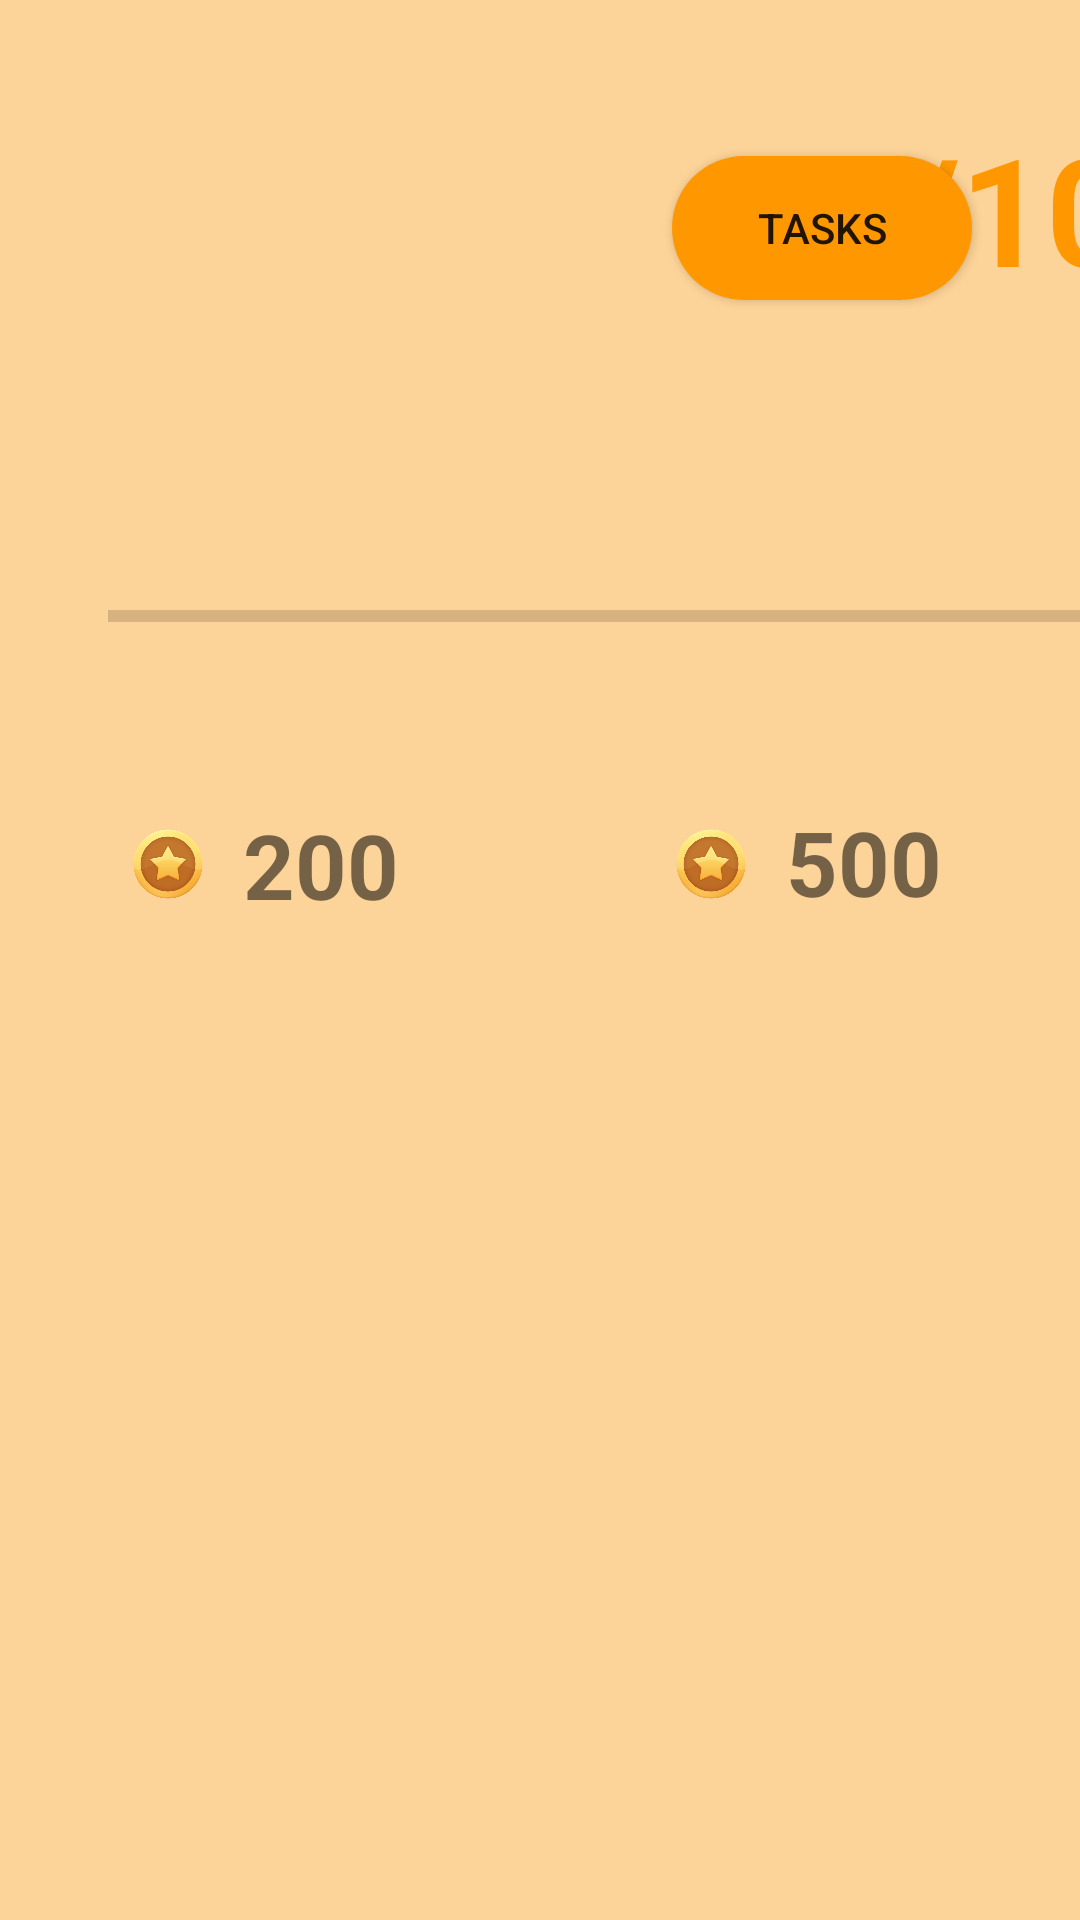

Icons on this 1080 x 1920 Android screen, each with the point to tap as (x,y):
goldencoins: (168,864), (711,864)
